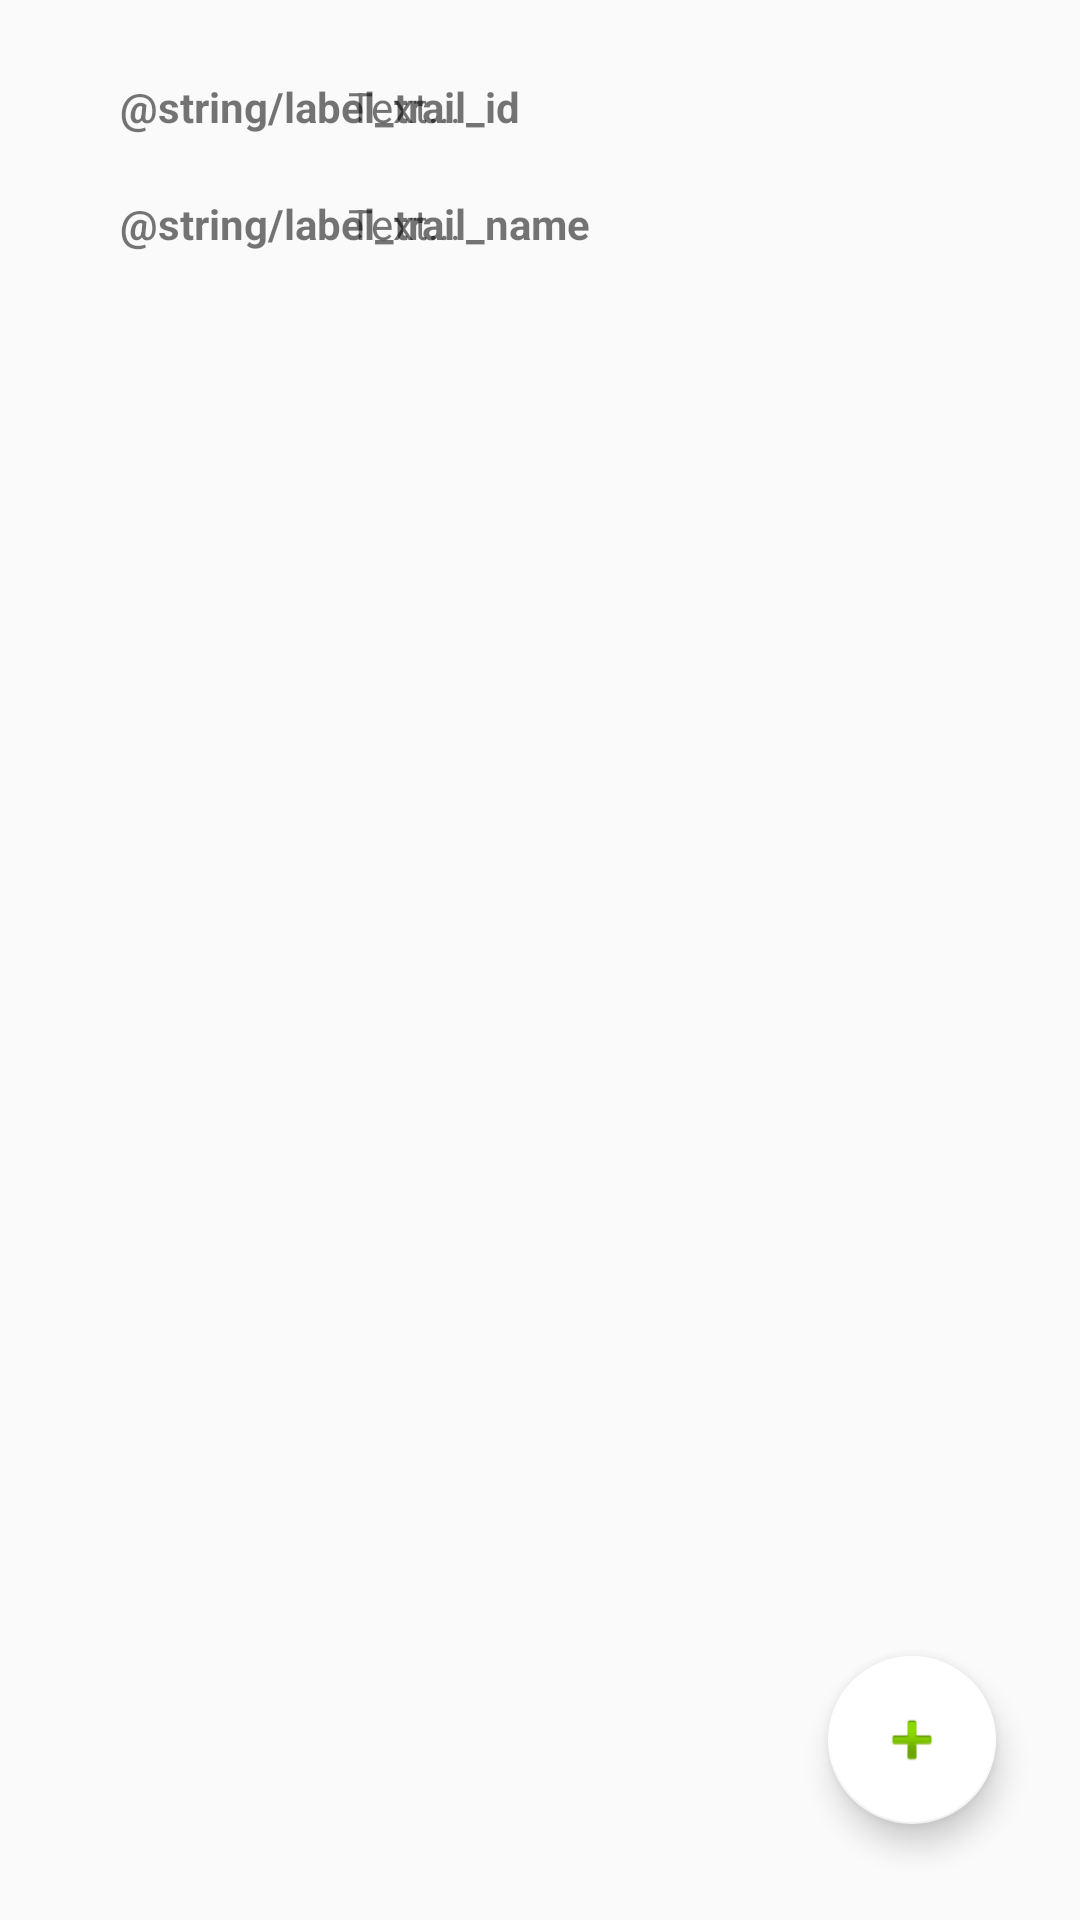

Screen size 1080px x 1920px. Icon name, then its center in pixels as [x,y]:
add: [914,1772]
